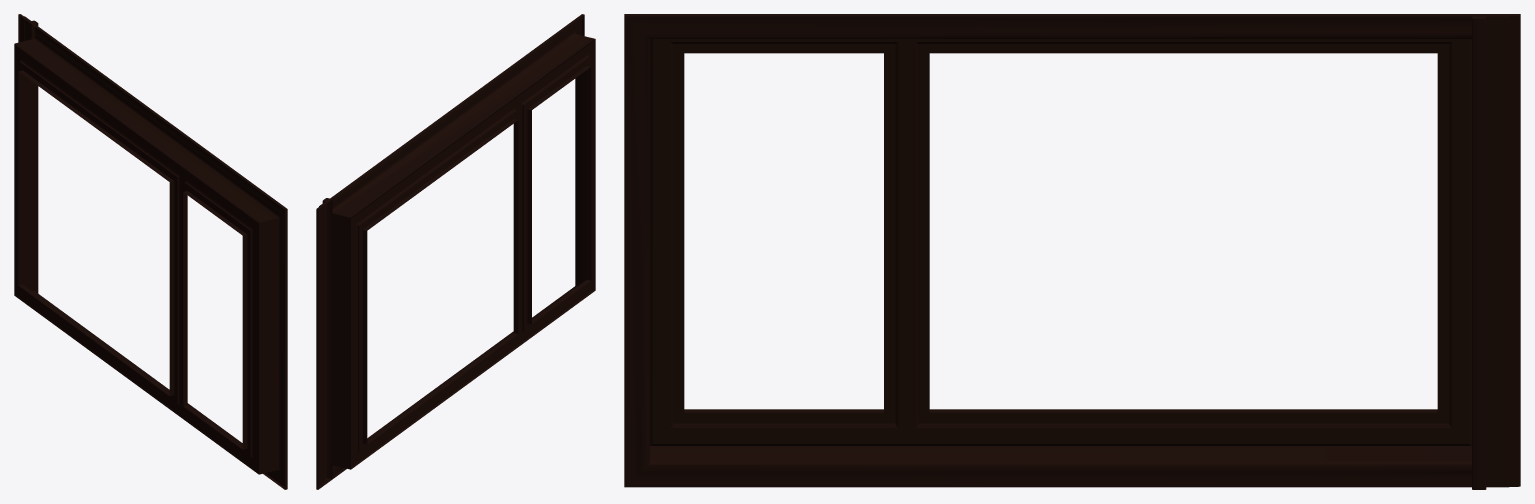
The model's file is window_left.obj.
3 renders of one model, left to right at view 1: azimuth 30°, elevation 25°; view 2: azimuth 150°, elevation 25°; view 3: azimuth 270°, elevation 25°, orthographic. The views are drawn at different scales.
Parts seen in each view (by area): view 1: window_left; view 2: window_left; view 3: window_left.
Part boxes in pixels (left/top/right/bottom): window_left: left=14, top=14, right=287, bottom=489; window_left: left=316, top=14, right=595, bottom=489; window_left: left=624, top=14, right=1520, bottom=489.
Size of the model in its own units: 0.1 by 0.8764 by 1.51.
